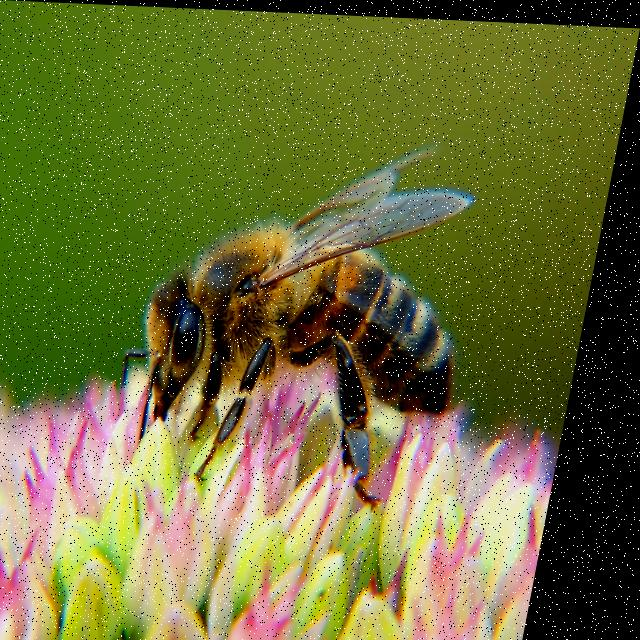Apis-mellifera-scutellata: (112, 118, 531, 516)
